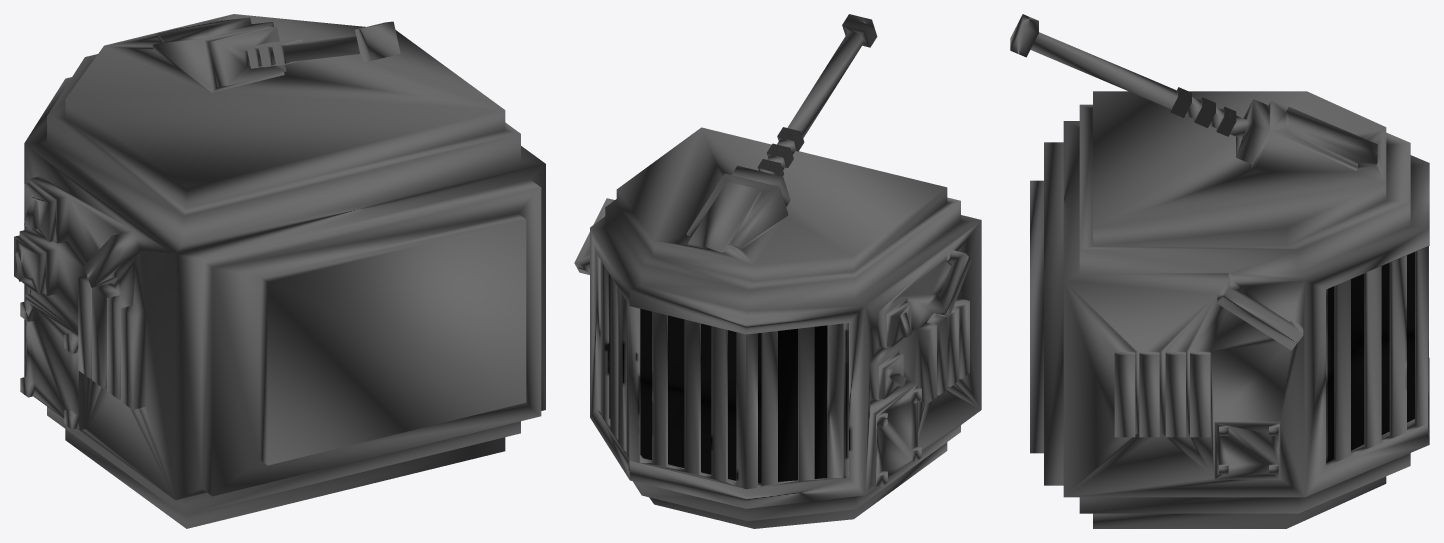
Rendered from ojobot.glb.
The picture shows the model from 3 angles, left to right: view 1: azimuth 30°, elevation 25°; view 2: azimuth 150°, elevation 25°; view 3: azimuth 270°, elevation 25°; orthographic projection. The views are drawn at different scales.
Visible parts, largest first — view 1: ojobot; view 2: ojobot; view 3: ojobot.
Part boxes in pixels (x1,y1,x2,y2): ojobot: (14,14,545,528); ojobot: (574,14,981,528); ojobot: (1010,14,1429,528).
Bounding box in the file's own units: 4.53 × 5.12 × 4.45.
Materials: 1 (1 with a texture image).
